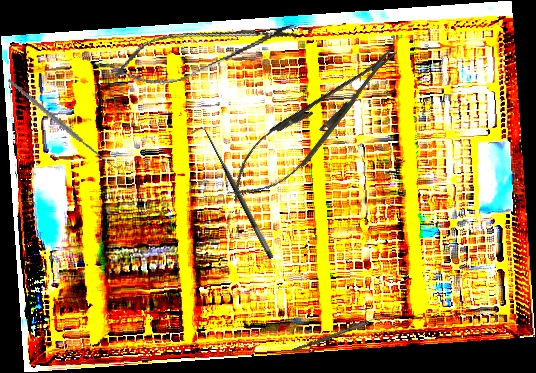Hook Surgical: (7, 52, 123, 194), (190, 123, 277, 265)
Micro Scissor: (105, 4, 303, 97)
Needle Holder: (213, 29, 416, 218)
Surgical Spoon: (291, 308, 395, 355)
